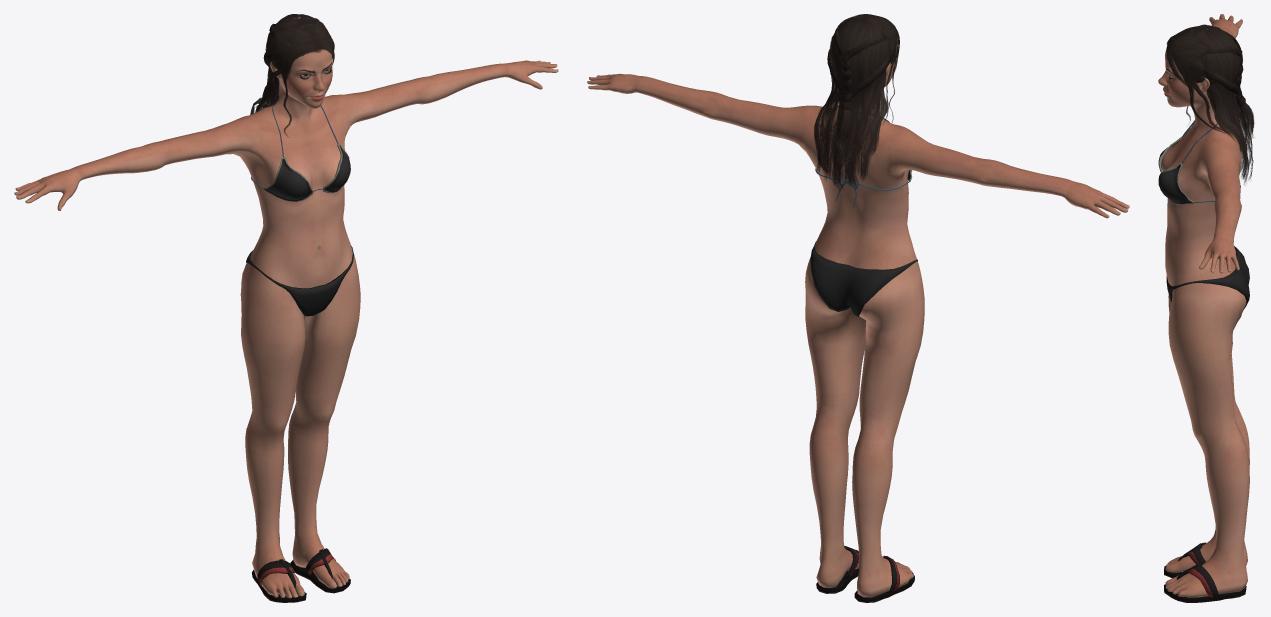
Rendered from Mariejane.glb.
The picture shows the model from 3 angles, left to right: view 1: azimuth 30°, elevation 25°; view 2: azimuth 150°, elevation 25°; view 3: azimuth 270°, elevation 25°; orthographic projection.
Visible parts, largest first — view 1: Object_2, Object_6, Object_8, Object_7, Object_3; view 2: Object_2, Object_6, Object_3, Object_7; view 3: Object_2, Object_6, Object_7, Object_8, Object_3.
Part boxes in pixels (bbox=[...]): Object_2: bbox=[14, 19, 558, 598]; Object_6: bbox=[250, 14, 334, 137]; Object_8: bbox=[251, 102, 350, 201]; Object_7: bbox=[252, 548, 350, 602]; Object_3: bbox=[246, 246, 353, 316]; Object_2: bbox=[587, 19, 1129, 597]; Object_6: bbox=[814, 14, 899, 190]; Object_3: bbox=[810, 241, 917, 316]; Object_7: bbox=[816, 545, 914, 602]; Object_2: bbox=[1158, 14, 1249, 597]; Object_6: bbox=[1166, 24, 1254, 185]; Object_7: bbox=[1164, 542, 1246, 602]; Object_8: bbox=[1158, 112, 1240, 204]; Object_3: bbox=[1166, 246, 1249, 308].
Bounding box in the file's own units: 1.69 × 1.69 × 0.2709.
Materials: 7 (7 with a texture image).
